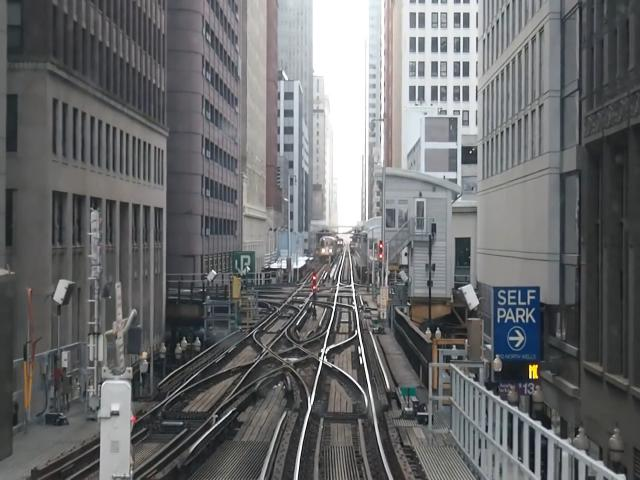signal light: (379, 241, 385, 270), (313, 274, 318, 303)
